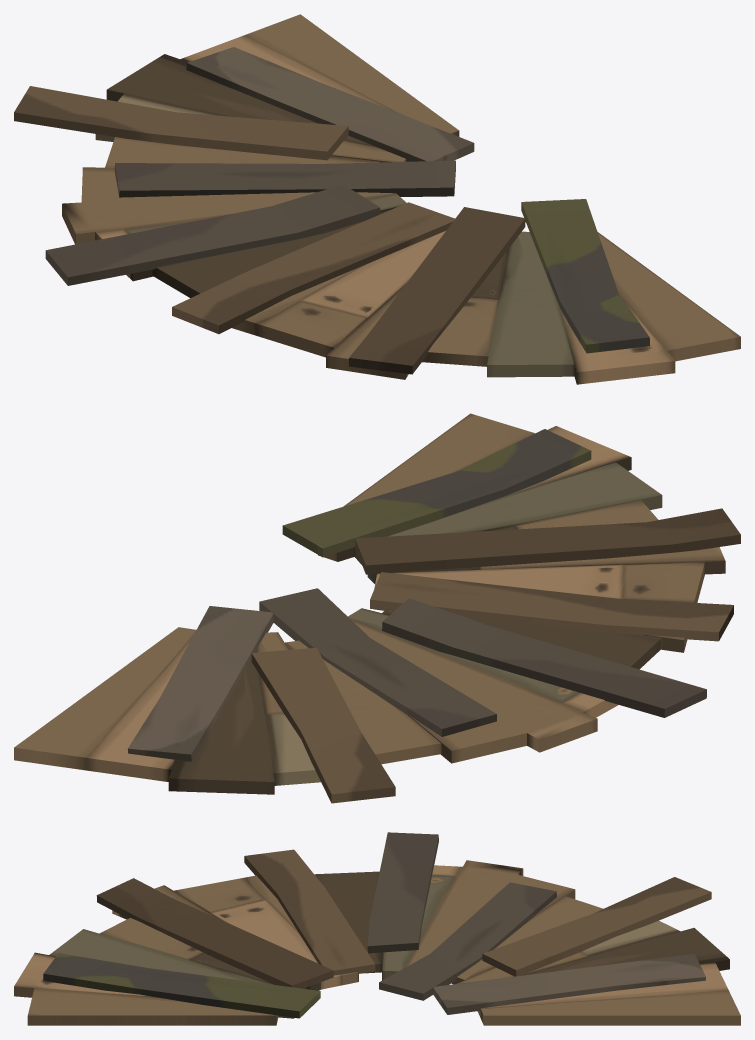
Rendered from SM_Bld_Dock_Round_04.fbx.
3 views of the same model, one above another, from view 1: azimuth 30°, elevation 25°; view 2: azimuth 150°, elevation 25°; view 3: azimuth 270°, elevation 25° (orthographic). The views are drawn at different scales.
Visible parts, largest first — view 1: SM_Bld_Dock_Round_04; view 2: SM_Bld_Dock_Round_04; view 3: SM_Bld_Dock_Round_04.
Part boxes in pixels (bbox=[...]): SM_Bld_Dock_Round_04: bbox=[14, 14, 740, 384]; SM_Bld_Dock_Round_04: bbox=[14, 413, 740, 803]; SM_Bld_Dock_Round_04: bbox=[14, 832, 740, 1025].
Bounding box in the file's own units: 395 × 21.16 × 663.
1 material, 1 textured.
